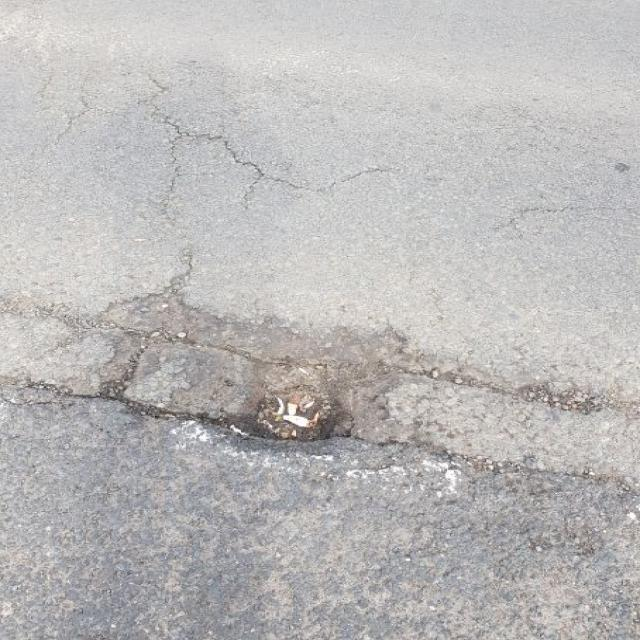Pothole: (77, 300, 421, 458)
